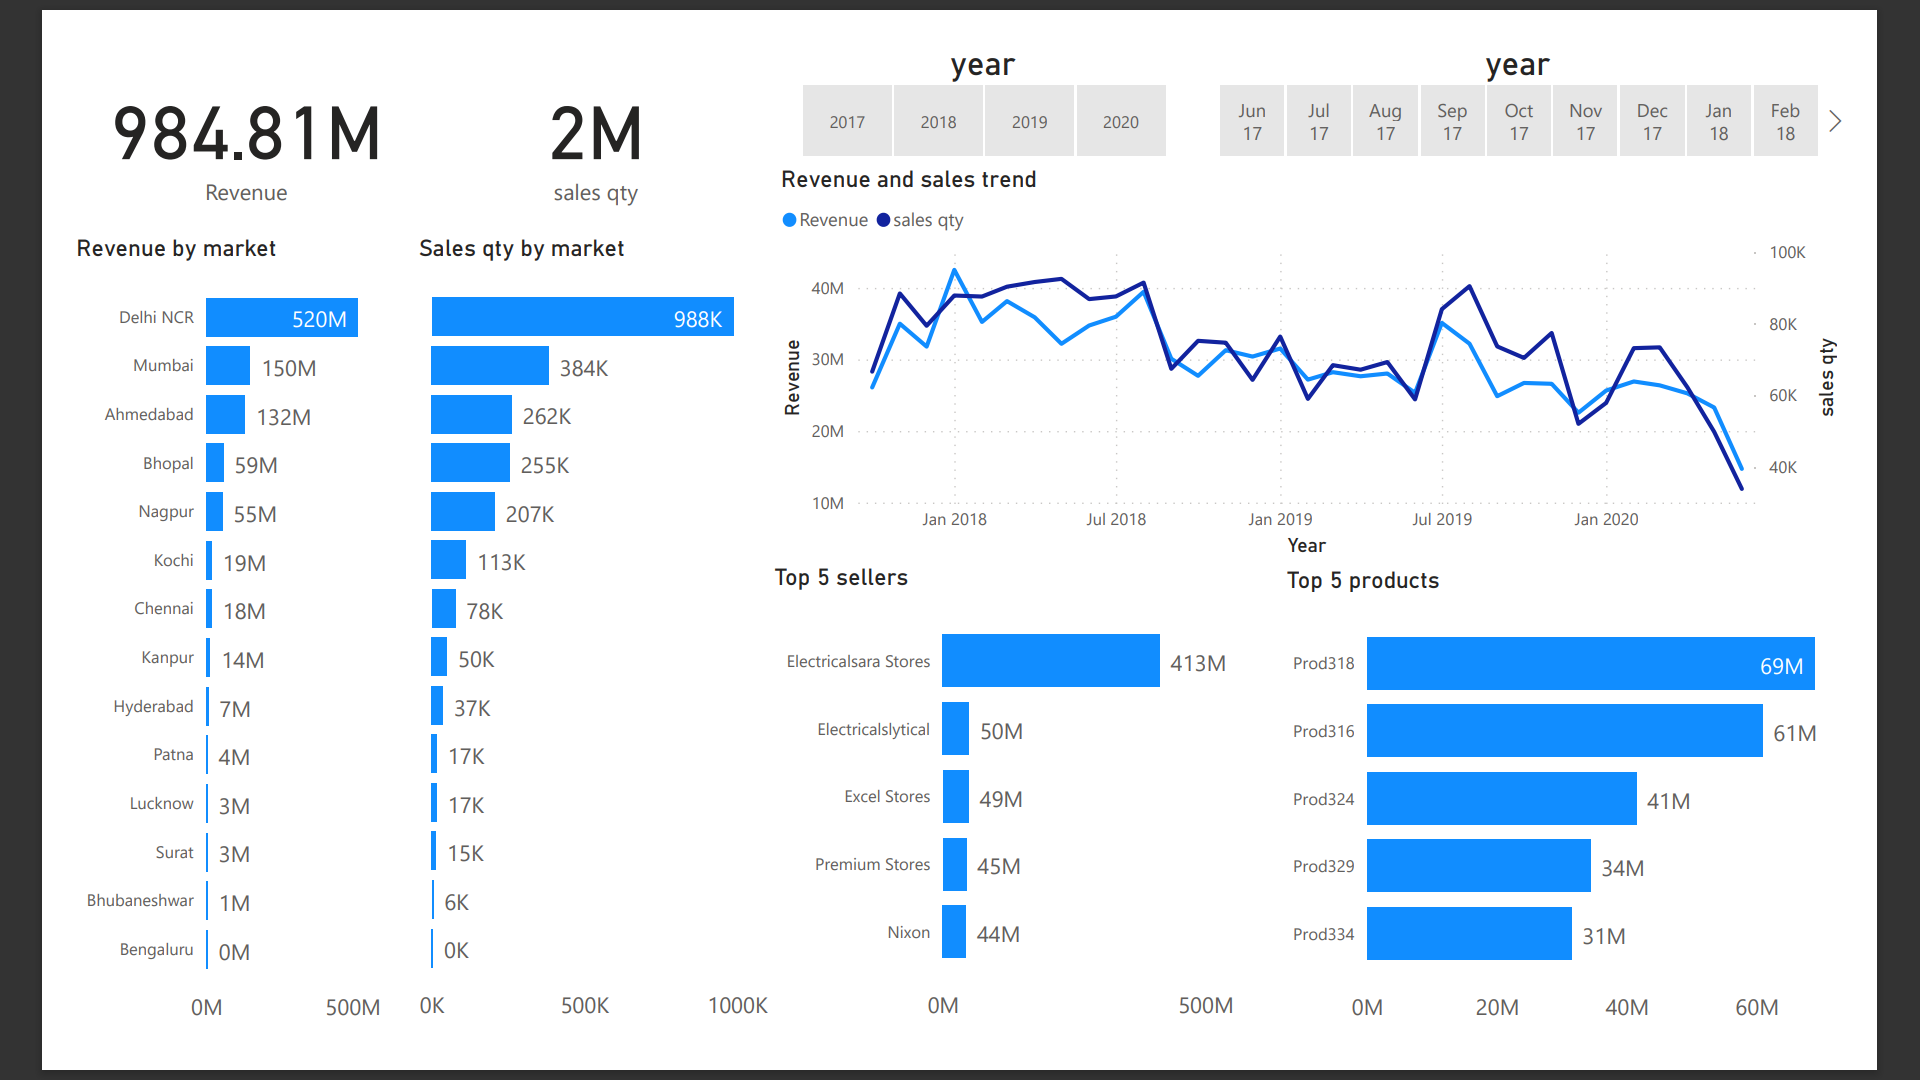

Layout of this report page (visuals, bound fields, positions):
{"tool":"powerbi","page":{"name":"Page 1","canvas":[1280,720],"ordinal":0},"visuals":[{"type":"card","fields":{"Values":["basemasures.sales quy"]},"box":[248.1,0,257.9,139.4],"z":0},{"type":"slicer","title":"year","fields":{"Values":["sales date.year"]},"box":[506.1,0,301.9,89.2],"z":1000},{"type":"card","fields":{"Values":["basemasures.Revenue"]},"box":[0,0,248.1,139.4],"z":2000},{"type":"barChart","title":"Revenue by market","fields":{"Category":["sales markets.markets_name"],"Y":["basemasures.Revenue"]},"box":[0,139.4,248.1,580.6],"z":3000},{"type":"barChart","title":"Sales qty by market","fields":{"Category":["sales markets.markets_name"],"Y":["basemasures.sales qty"]},"box":[248.1,139.4,257.9,579.4],"z":4000},{"type":"slicer","title":"year","fields":{"Values":["sales date.cy_date"]},"box":[808,0,471.9,89.2],"z":5000},{"type":"barChart","title":"Top 5 sellers","fields":{"Category":["sales customers.custmer_name"],"Y":["basemasures.Revenue"]},"box":[506.3,377.4,370.5,341.7],"z":6000},{"type":"barChart","title":"Top 5 products","fields":{"Category":["sales transactions.product_code"],"Y":["basemasures.Revenue"]},"box":[876.8,378.7,403.4,341.7],"z":7000},{"type":"lineChart","title":"Revenue and sales trend","fields":{"Y":["basemasures.Revenue"],"Category":["sales date.cy_date.Variation.Date Hierarchy.Year","sales date.cy_date.Variation.Date Hierarchy.Quarter","sales date.cy_date.Variation.Date Hierarchy.Month","sales date.cy_date.Variation.Date Hierarchy.Day"],"Y2":["basemasures.sales qty"]},"box":[506.3,89.2,773.9,288.2],"z":8000}]}

Visuals, with their boxes in screenshot pixels (x1, y1, x2, y2), scaled from the page's 1280x720 canvas onto the 1920x1080 screenshot:
card - basemasures.sales quy: l=372, t=0, r=759, b=209
"year" slicer: l=759, t=0, r=1212, b=134
card - basemasures.Revenue: l=0, t=0, r=372, b=209
"Revenue by market" barChart: l=0, t=209, r=372, b=1079
"Sales qty by market" barChart: l=372, t=209, r=759, b=1078
"year" slicer: l=1212, t=0, r=1919, b=134
"Top 5 sellers" barChart: l=759, t=566, r=1315, b=1079
"Top 5 products" barChart: l=1315, t=568, r=1919, b=1079
"Revenue and sales trend" lineChart: l=759, t=134, r=1919, b=566
